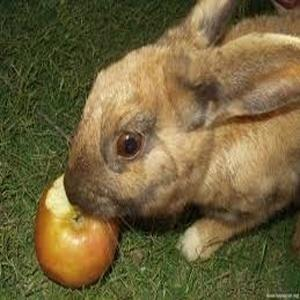rabbit: (36, 0, 299, 284)
